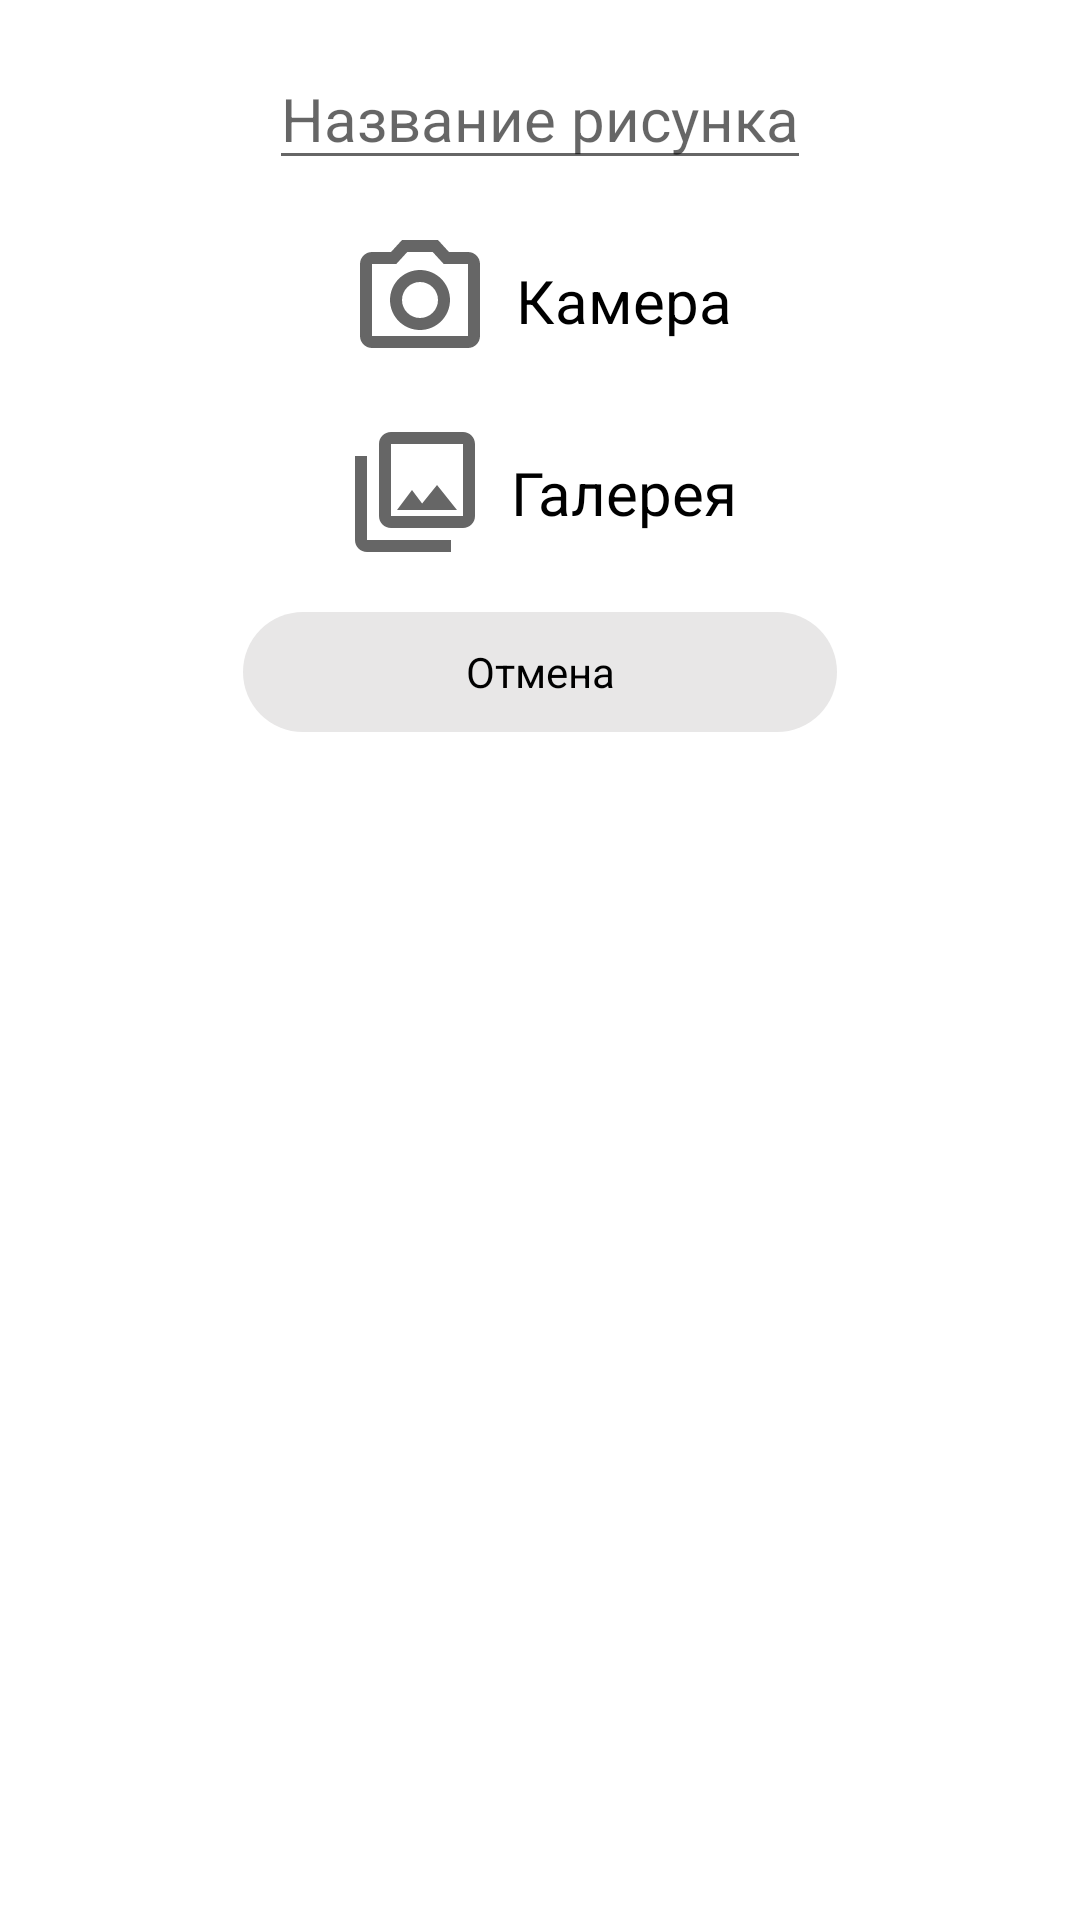

Where to tap for icons on this 1080 × 1920 app screen, as (x=x, y=y):
button camera: (x=420, y=294)
collections: (x=415, y=492)
